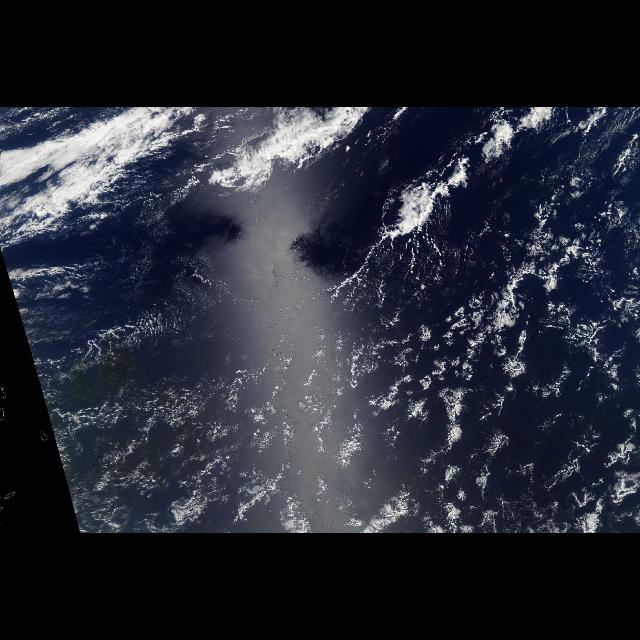Fish: (378, 108, 564, 242)
Gravel: (411, 358, 635, 528)
Sugar: (58, 347, 336, 491)
